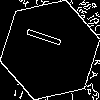I: (25, 25, 72, 52)
